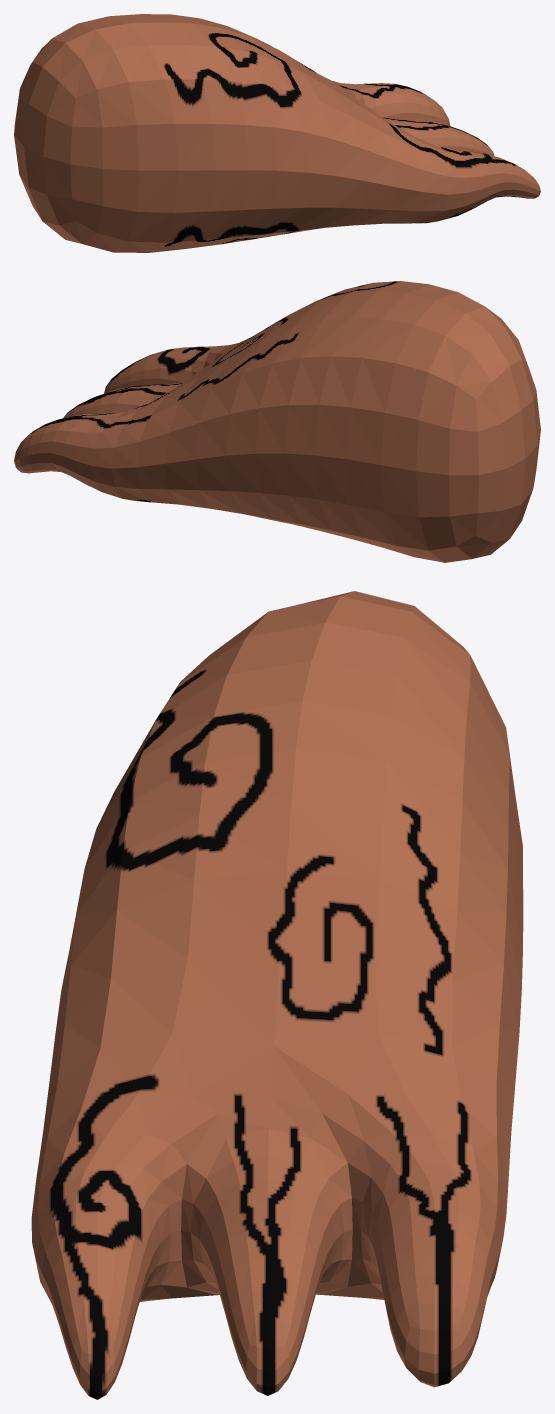
Rendered from pieIzq.obj.
3 views of the same model, one above another, from view 1: azimuth 30°, elevation 25°; view 2: azimuth 150°, elevation 25°; view 3: azimuth 270°, elevation 25° (orthographic). The views are drawn at different scales.
Visible parts, largest first — view 1: Shukaku:Shukaku7; view 2: Shukaku:Shukaku7; view 3: Shukaku:Shukaku7.
Part boxes in pixels (bbox=[...]): Shukaku:Shukaku7: bbox=[14, 14, 540, 252]; Shukaku:Shukaku7: bbox=[14, 281, 540, 562]; Shukaku:Shukaku7: bbox=[31, 591, 523, 1399].
Bounding box in the file's own units: 4.93 × 2.4 × 2.35.
